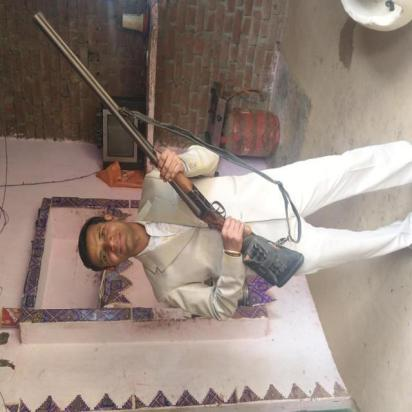Gun: (31, 9, 306, 290)
